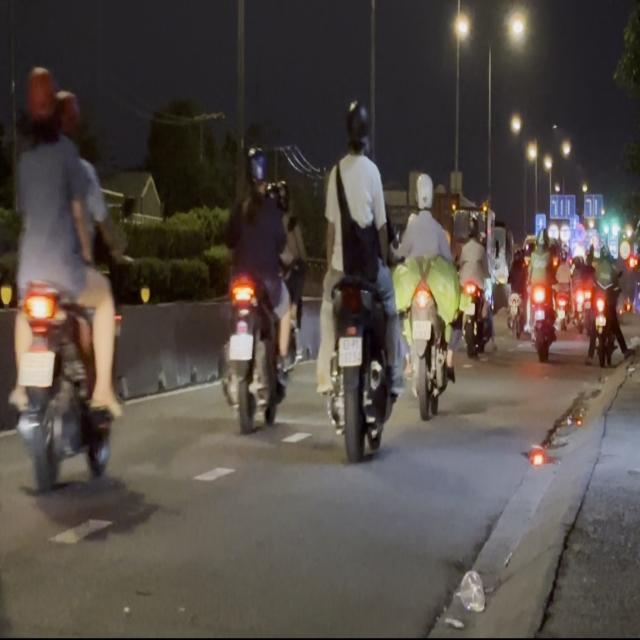helmet: (21, 64, 58, 142), (54, 87, 82, 144), (342, 100, 369, 152), (246, 148, 268, 194), (414, 173, 434, 212)
licenseplate: (2, 64, 126, 494), (313, 96, 402, 457), (220, 145, 296, 432), (395, 170, 458, 418)
nohelmet: (19, 351, 54, 386), (338, 336, 361, 365), (229, 333, 252, 360), (412, 319, 430, 338)
